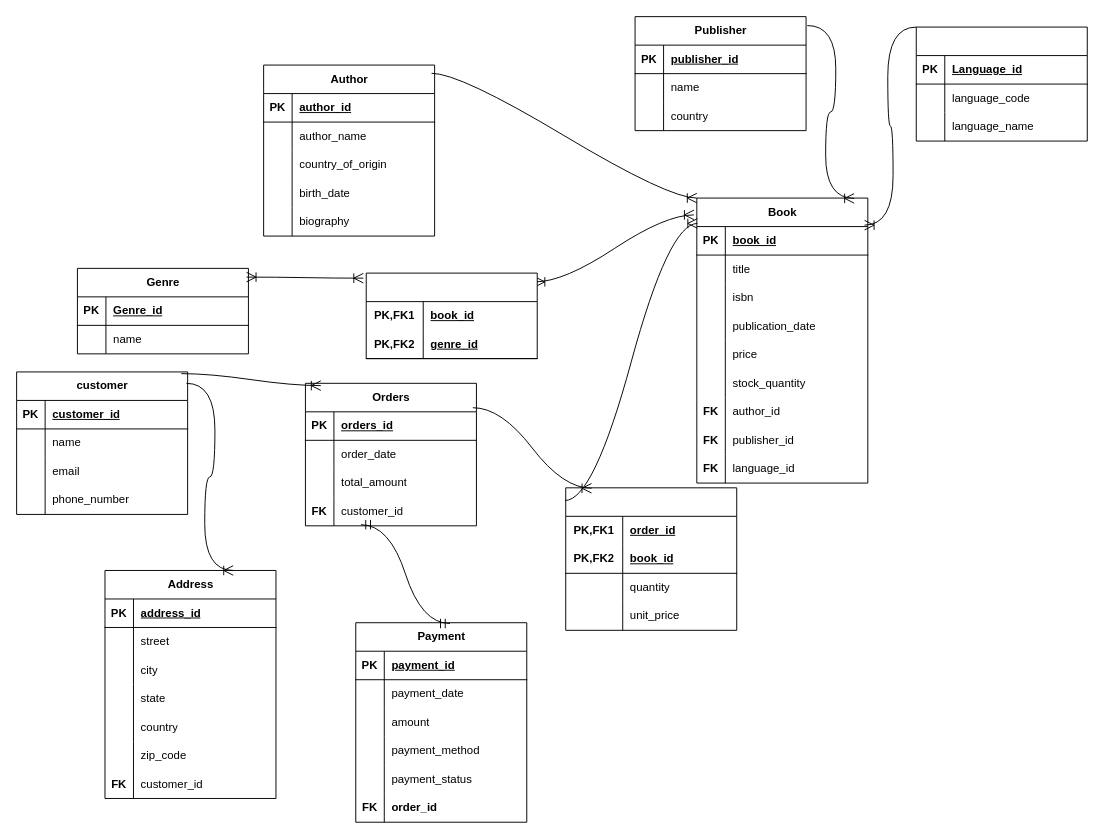
This 1104x839 diagram has some shape labels left out. The shapes that lost their labels are listed below. From the top down, each one's box as (x1, y1, x2, y2) in pixels, then its label:
(915, 26, 1087, 141): Book_language
(365, 272, 537, 359): Book_Genre
(565, 487, 737, 630): Order_Item
